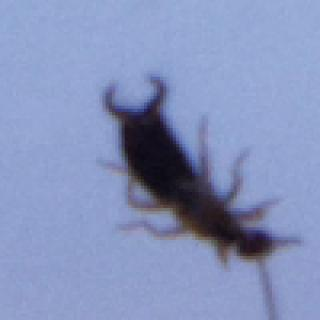earwig: (91, 70, 306, 320)
